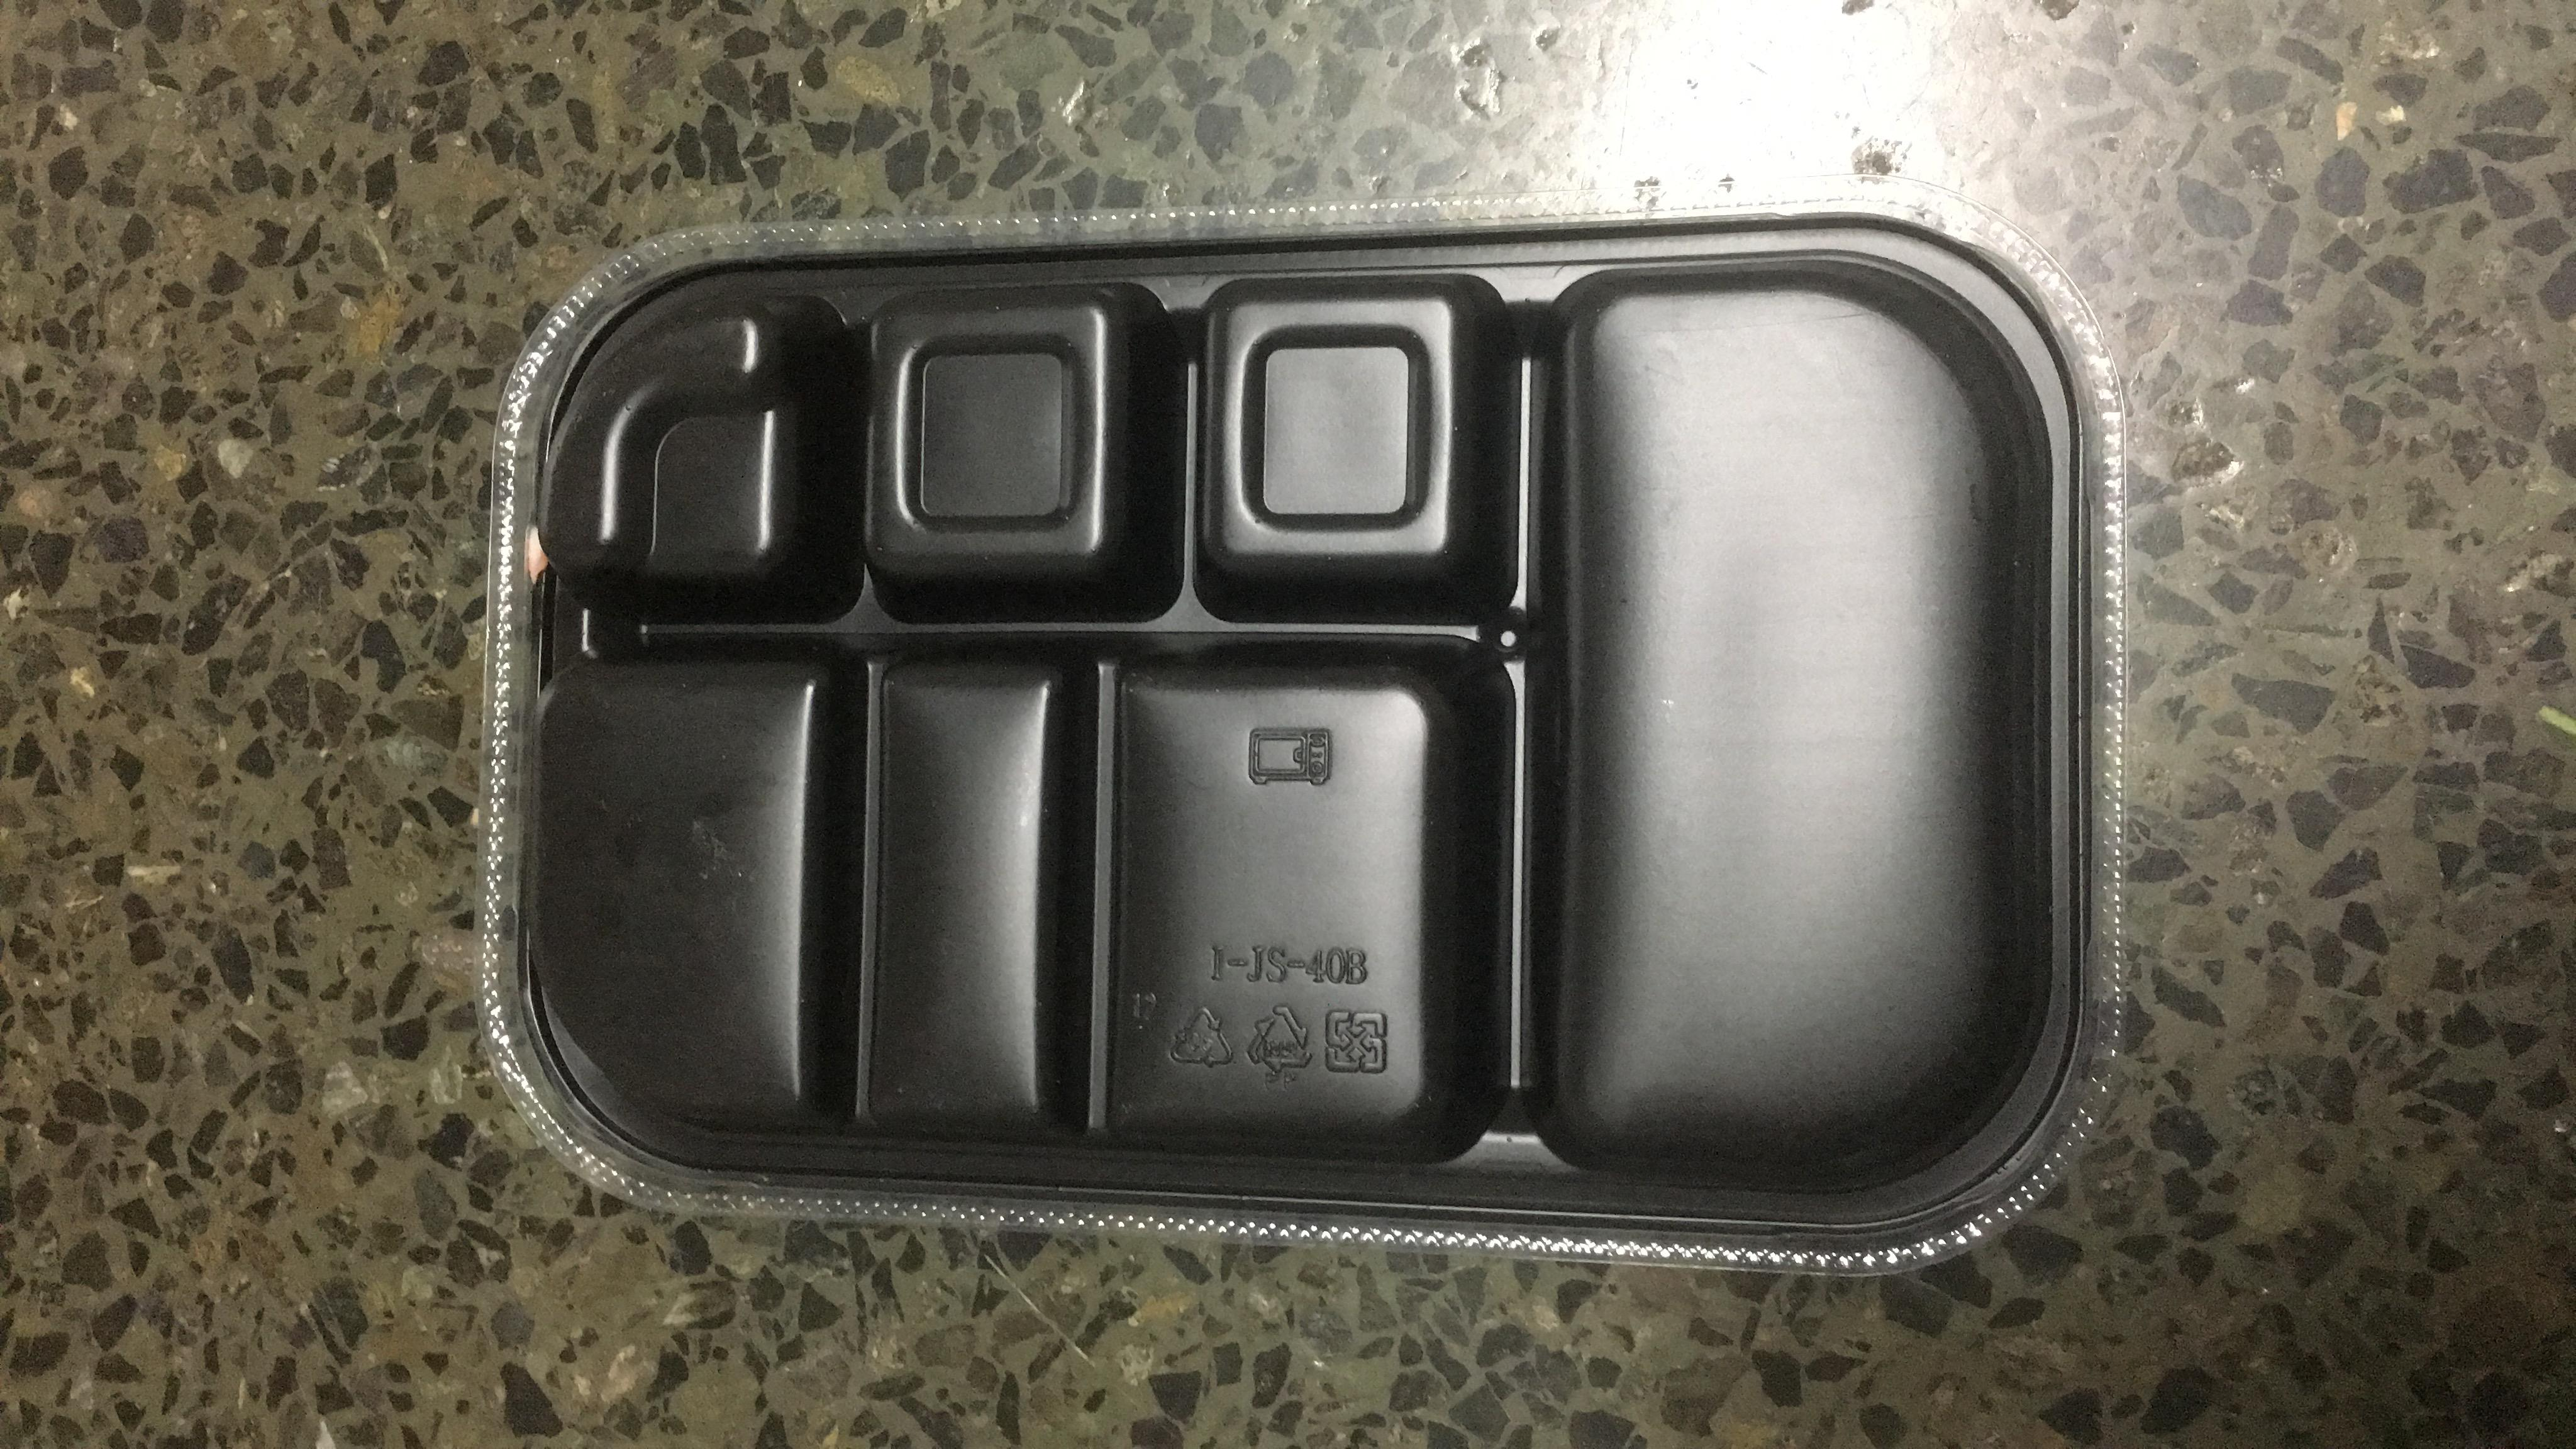bottle: (1269, 258, 1276, 1205)
